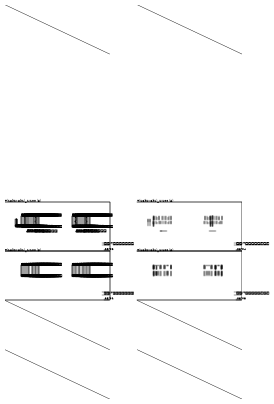room: (112, 158, 120, 160), (265, 158, 273, 160), (112, 107, 120, 109), (265, 107, 273, 109)
wall: (0, 0, 121, 51), (0, 353, 121, 404), (153, 353, 274, 404), (153, 0, 274, 51), (0, 51, 121, 101), (153, 51, 274, 101), (114, 152, 120, 153), (267, 152, 273, 153), (114, 102, 120, 103), (267, 102, 273, 103)
